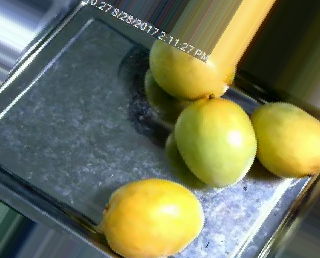Mango: (105, 179, 204, 255), (175, 99, 256, 186), (251, 100, 320, 178), (151, 37, 230, 101)
